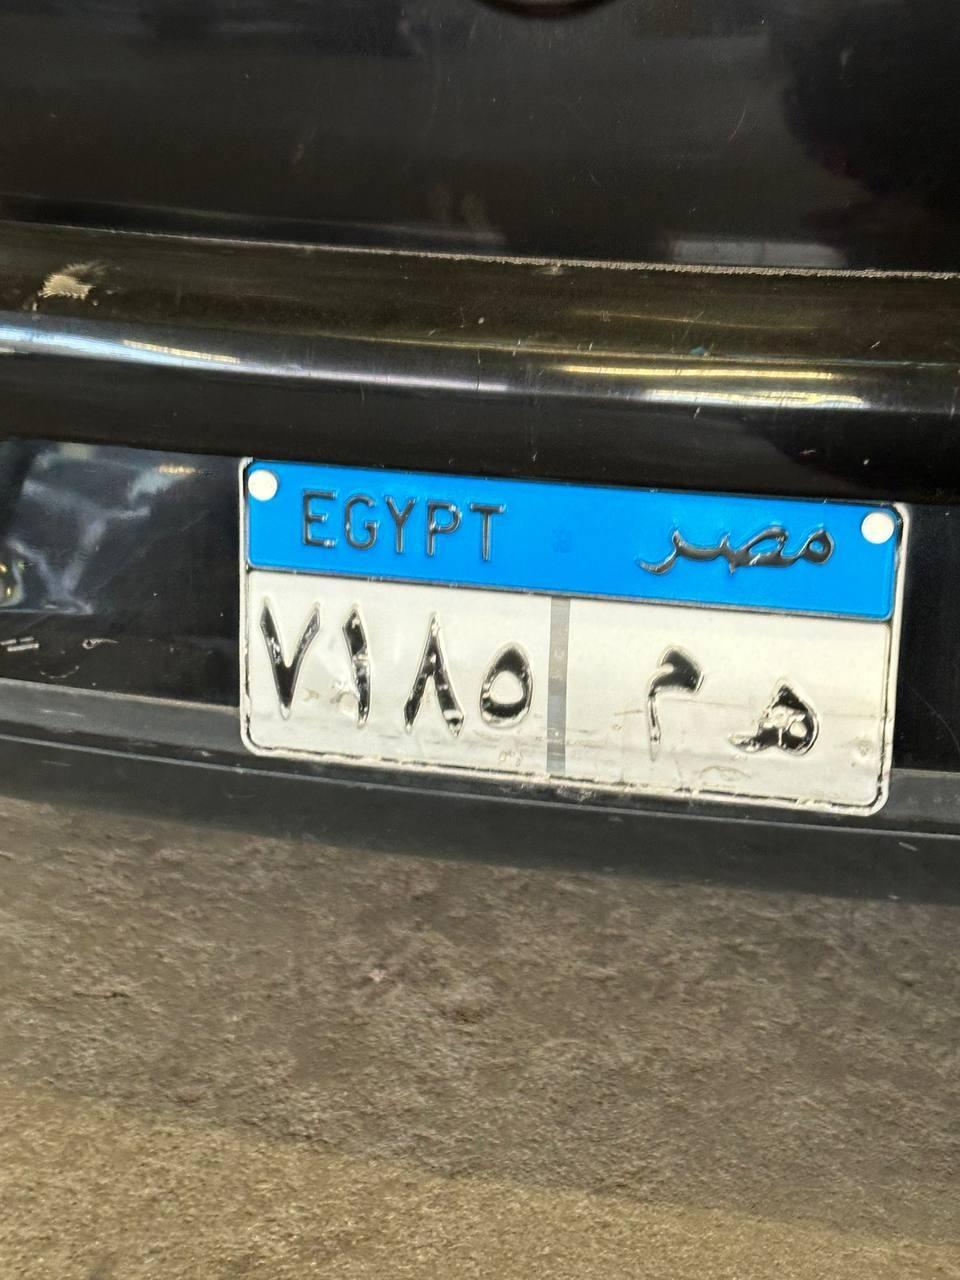1: (330, 600, 374, 732)
5: (478, 638, 537, 734)
7: (256, 598, 326, 716)
8: (393, 608, 471, 732)
Heeh: (726, 678, 832, 762)
License Plate: (232, 451, 912, 822)
Meem: (636, 643, 710, 766)
